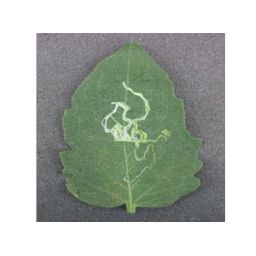liriomyza: (100, 80, 171, 184)
